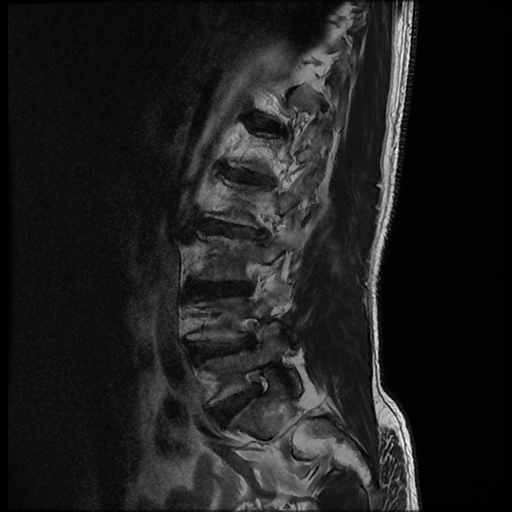RFS1: (232, 362, 277, 408)
RFS2: (225, 311, 270, 356)
